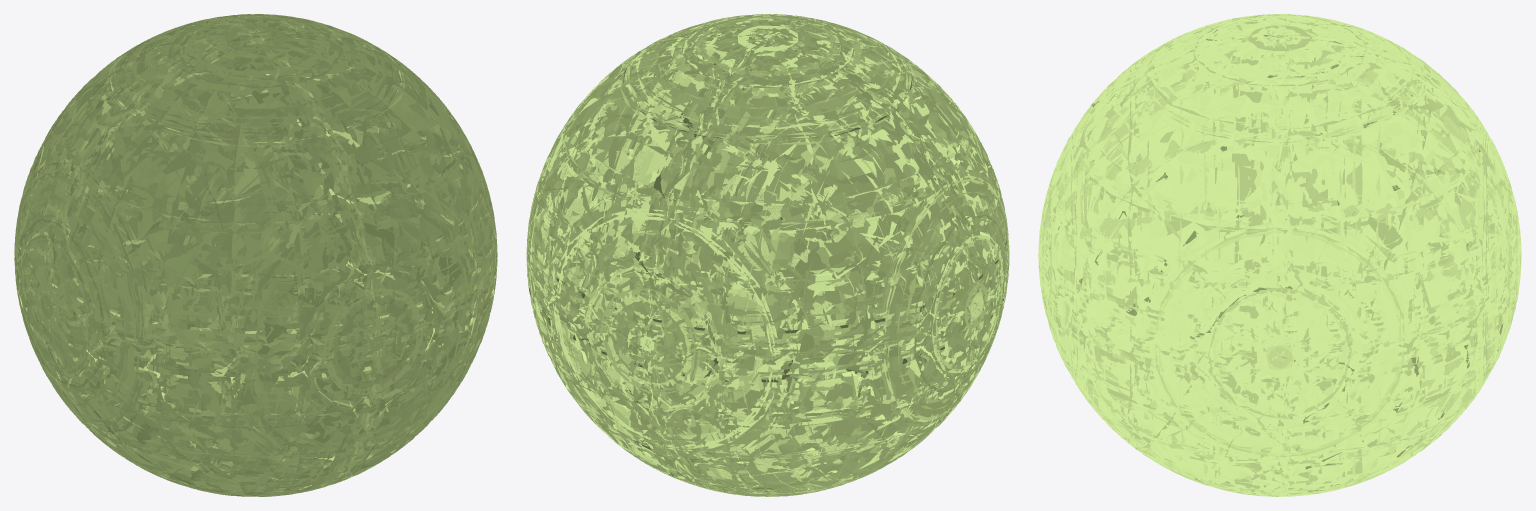
The model's file is sys-cd-frp_piping.glb.
3 views of the same model, side by side, from view 1: azimuth 30°, elevation 25°; view 2: azimuth 150°, elevation 25°; view 3: azimuth 270°, elevation 25° (orthographic).
Visible parts, largest first — view 1: TS-cd-frp_piping-1389, TS-cd-frp_piping-1461-v, TS-cd-frp_piping-1450-v, TS-cd-frp_piping-1450, TS-cd-frp_piping-1463-v, TS-cd-frp_piping-1413, TS-cd-frp_piping-1389-v, TS-cd-frp_piping-1466-v, TS-cd-frp_piping-1461, TS-cd-frp_piping-1400, TS-cd-frp_piping-1466, TS-cd-frp_piping-1400-v (+7 smaller); view 2: TS-cd-frp_piping-1389, TS-cd-frp_piping-1461-v, TS-cd-frp_piping-1450-v, TS-cd-frp_piping-1450, TS-cd-frp_piping-1413, TS-cd-frp_piping-1463-v, TS-cd-frp_piping-1389-v, TS-cd-frp_piping-1466-v, TS-cd-frp_piping-1461, TS-cd-frp_piping-1400, TS-cd-frp_piping-1466, TS-cd-frp_piping-1400-v (+7 smaller); view 3: TS-cd-frp_piping-1389, TS-cd-frp_piping-1463-v, TS-cd-frp_piping-1461-v, TS-cd-frp_piping-1450-v, TS-cd-frp_piping-1450, TS-cd-frp_piping-1413, TS-cd-frp_piping-1466-v, TS-cd-frp_piping-1389-v, TS-cd-frp_piping-1461, TS-cd-frp_piping-1400, TS-cd-frp_piping-1466, TS-cd-frp_piping-1400-v (+7 smaller).
Part boxes in pixels (box(x1,y1,x2,y2)): TS-cd-frp_piping-1389: box(15, 14, 497, 496); TS-cd-frp_piping-1461-v: box(14, 14, 497, 496); TS-cd-frp_piping-1450-v: box(14, 14, 496, 496); TS-cd-frp_piping-1450: box(14, 14, 497, 496); TS-cd-frp_piping-1463-v: box(14, 15, 496, 496); TS-cd-frp_piping-1413: box(14, 15, 497, 494); TS-cd-frp_piping-1389-v: box(15, 15, 496, 495); TS-cd-frp_piping-1466-v: box(14, 15, 495, 495); TS-cd-frp_piping-1461: box(15, 14, 493, 496); TS-cd-frp_piping-1400: box(14, 14, 497, 496); TS-cd-frp_piping-1466: box(15, 14, 497, 496); TS-cd-frp_piping-1400-v: box(16, 26, 496, 492); TS-cd-frp_piping-1389: box(526, 14, 1008, 496); TS-cd-frp_piping-1461-v: box(527, 14, 1009, 496); TS-cd-frp_piping-1450-v: box(526, 14, 1008, 496); TS-cd-frp_piping-1450: box(526, 14, 1008, 496); TS-cd-frp_piping-1413: box(527, 16, 1009, 494); TS-cd-frp_piping-1463-v: box(527, 15, 1009, 496); TS-cd-frp_piping-1389-v: box(527, 15, 1008, 495); TS-cd-frp_piping-1466-v: box(526, 14, 1009, 495); TS-cd-frp_piping-1461: box(527, 14, 1009, 495); TS-cd-frp_piping-1400: box(526, 15, 1009, 496); TS-cd-frp_piping-1466: box(527, 15, 1008, 496); TS-cd-frp_piping-1400-v: box(528, 25, 1008, 495); TS-cd-frp_piping-1389: box(1039, 14, 1521, 496); TS-cd-frp_piping-1463-v: box(1041, 14, 1519, 496); TS-cd-frp_piping-1461-v: box(1038, 14, 1521, 496); TS-cd-frp_piping-1450-v: box(1038, 14, 1520, 496); TS-cd-frp_piping-1450: box(1038, 14, 1521, 496); TS-cd-frp_piping-1413: box(1038, 14, 1521, 496); TS-cd-frp_piping-1466-v: box(1046, 15, 1519, 493); TS-cd-frp_piping-1389-v: box(1039, 15, 1521, 496); TS-cd-frp_piping-1461: box(1039, 15, 1519, 496); TS-cd-frp_piping-1400: box(1039, 16, 1520, 496); TS-cd-frp_piping-1466: box(1039, 17, 1521, 496); TS-cd-frp_piping-1400-v: box(1039, 14, 1518, 495).
Bounding box in the file's own units: 2 × 2 × 2.
